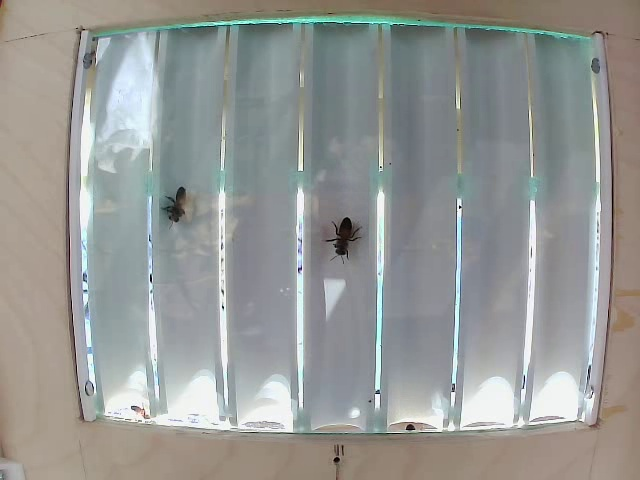bee: (323, 202, 366, 270), (167, 182, 192, 231)
